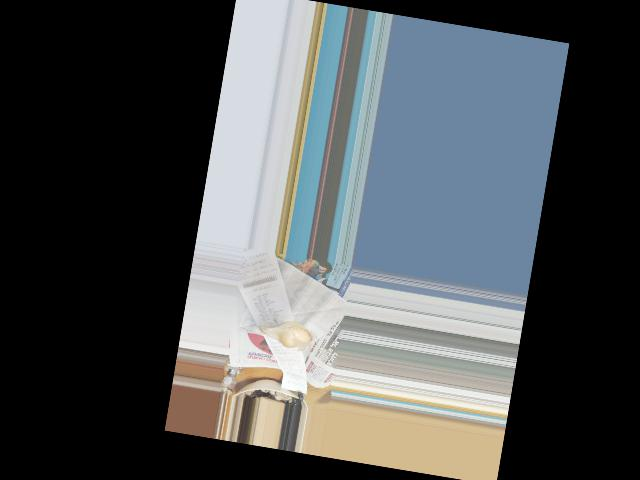onion: (268, 319, 312, 349)
